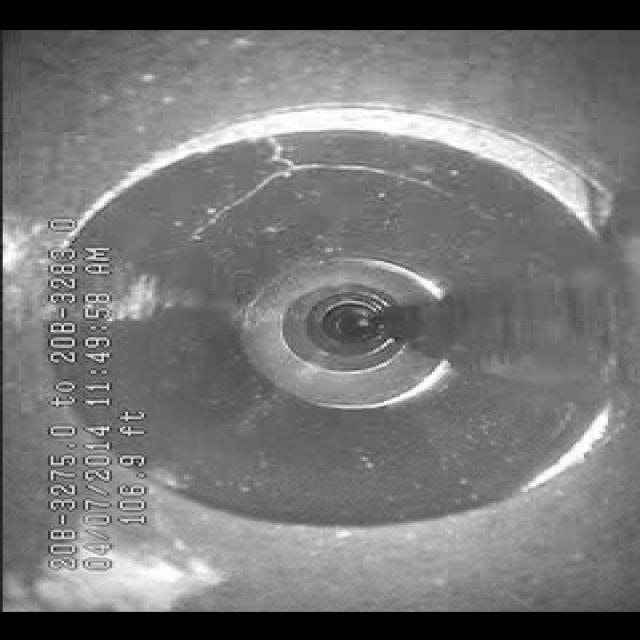Crack: (177, 131, 391, 238)
